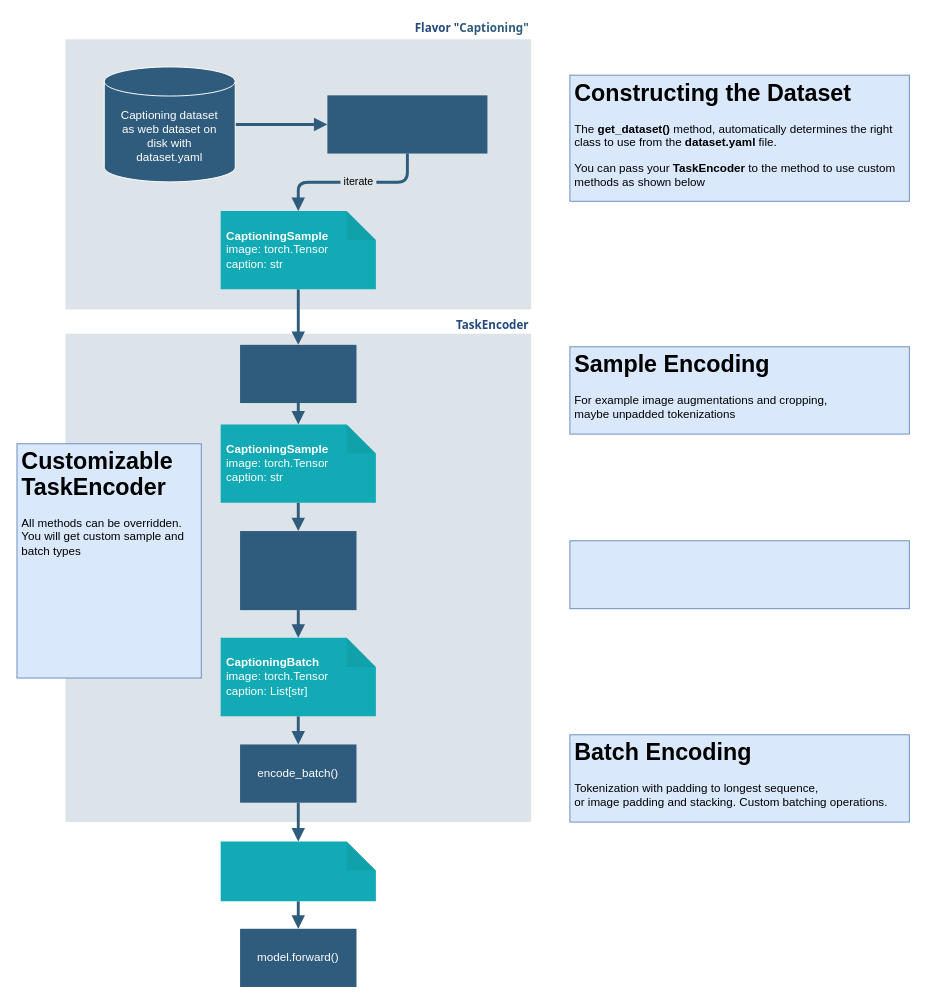
The diagram is 926 pixels wide and 1003 high, and some of its shapes have lost their labels. Each missing label, with the centre of its shape:
Batch as it goes into network: the point at 297,871
batch() (may be overriden, but uncommon): the point at 298,570
Batching Default batching stacks tensors or creates lists of strings: the point at 739,574
encode_sample(): the point at 298,373
get_dataset() constructs a CaptioningWebdataset: the point at 407,124
